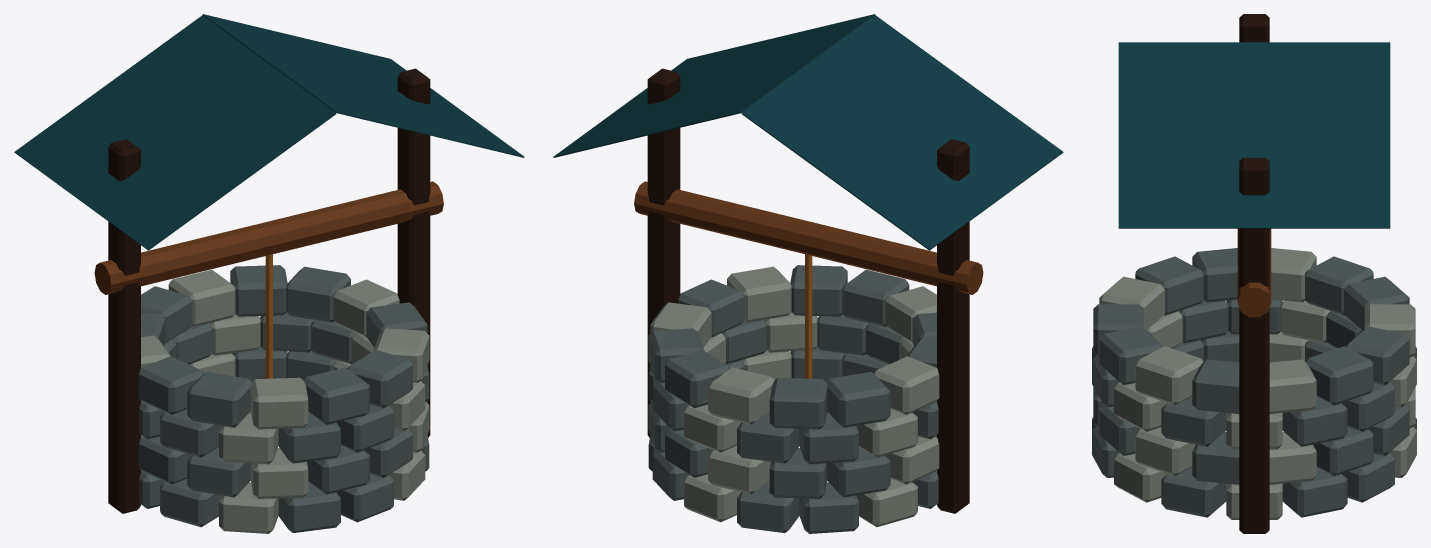
The model's file is Poco_de_pedra_LOD0.fbx.
3 renders of one model, left to right at view 1: azimuth 30°, elevation 25°; view 2: azimuth 150°, elevation 25°; view 3: azimuth 270°, elevation 25°, orthographic.
Parts seen in each view (by area): view 1: Poco_de_pedra_LOD0; view 2: Poco_de_pedra_LOD0; view 3: Poco_de_pedra_LOD0.
Boxes of the visible parts, box(x1,y1,x2,y2) form: Poco_de_pedra_LOD0: box(14, 14, 524, 533); Poco_de_pedra_LOD0: box(553, 14, 1063, 533); Poco_de_pedra_LOD0: box(1092, 14, 1416, 533).
Bounding box in the file's own units: 260 × 271 × 191.
1 material, 1 textured.
